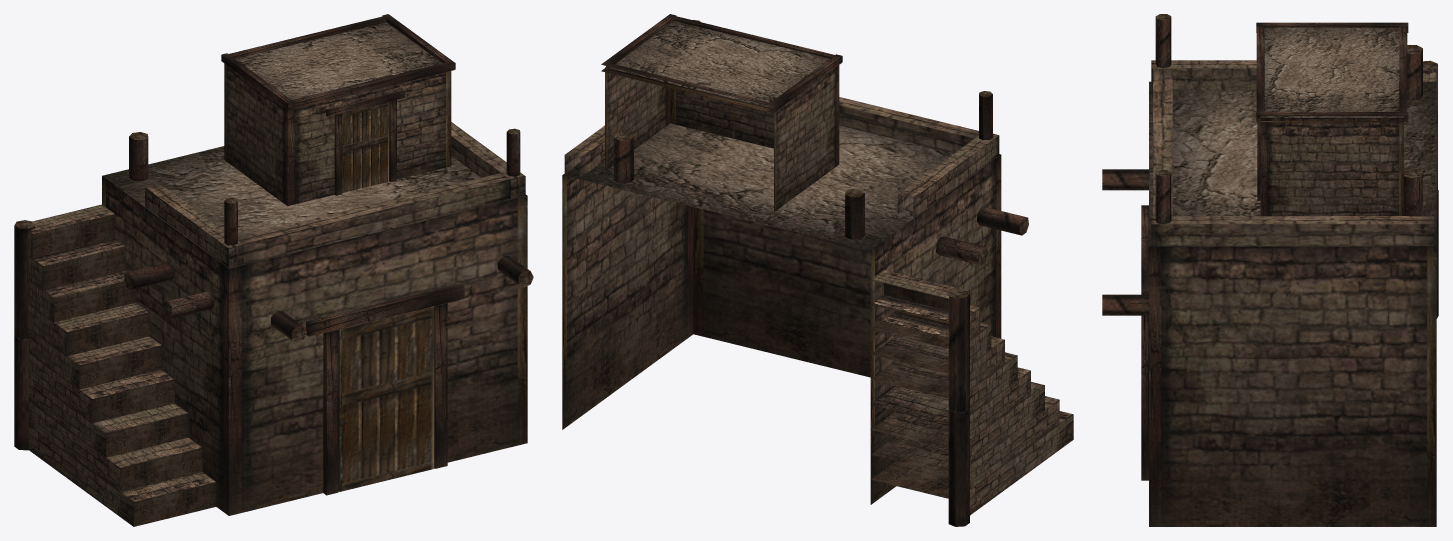
File: building06.fbx
3 renders of one model, left to right at view 1: azimuth 30°, elevation 25°; view 2: azimuth 150°, elevation 25°; view 3: azimuth 270°, elevation 25°, orthographic. The views are drawn at different scales.
Parts seen in each view (by area): view 1: building06; view 2: building06; view 3: building06.
Part boxes in pixels (<box>): building06: <box>14,14,533,526</box>; building06: <box>562,14,1073,526</box>; building06: <box>1102,14,1438,526</box>.
Size of the model in its own units: 1234 by 1066 by 816.
